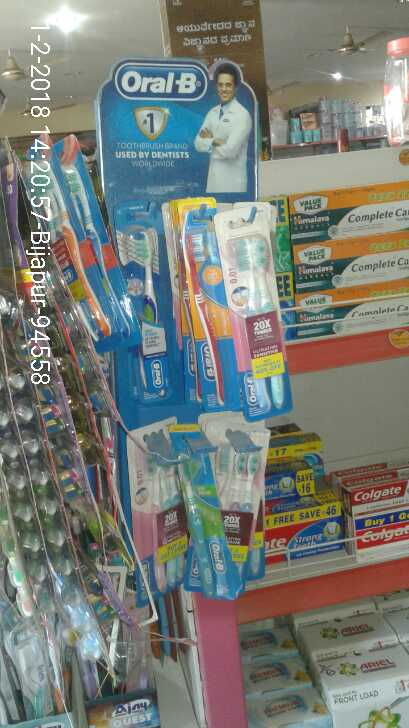pharmacy: (216, 213, 291, 423), (166, 199, 235, 420), (118, 200, 178, 406), (163, 437, 234, 596), (126, 439, 185, 594)
